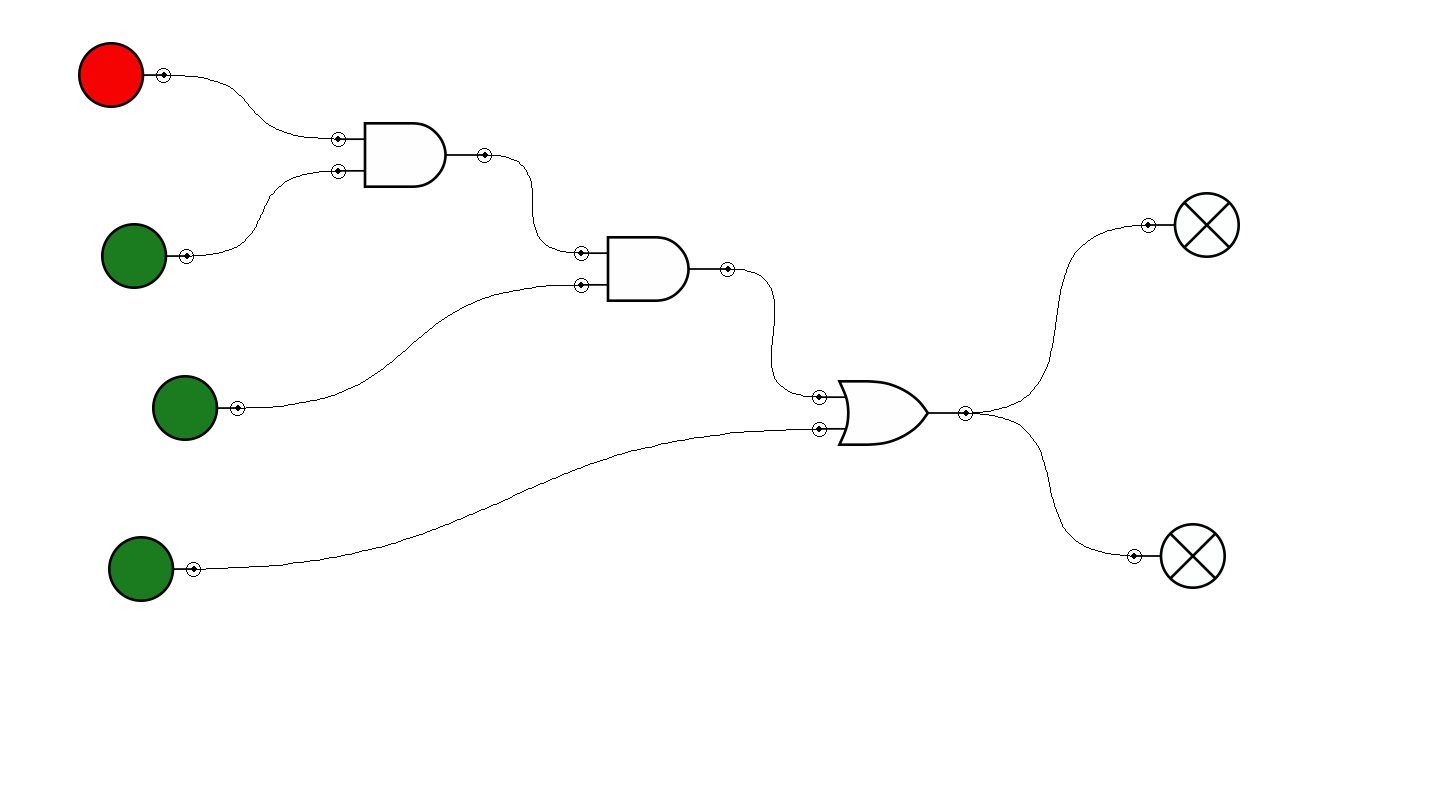and: (574, 236, 735, 302), (331, 122, 492, 188)
bulb: (1127, 523, 1226, 589), (1141, 192, 1240, 258)
or: (812, 380, 973, 446)
switch_False: (78, 42, 171, 108)
switch_True: (101, 223, 194, 289), (152, 375, 245, 441), (108, 536, 201, 602)
